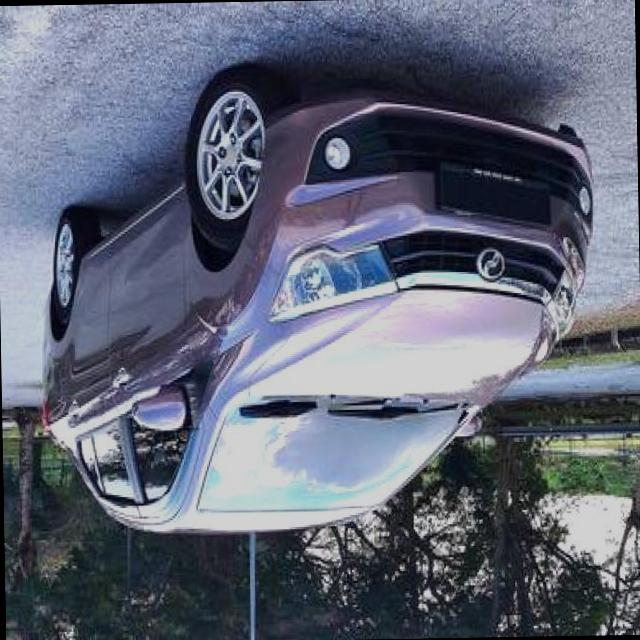PeroduaBezza: (34, 60, 602, 539)
